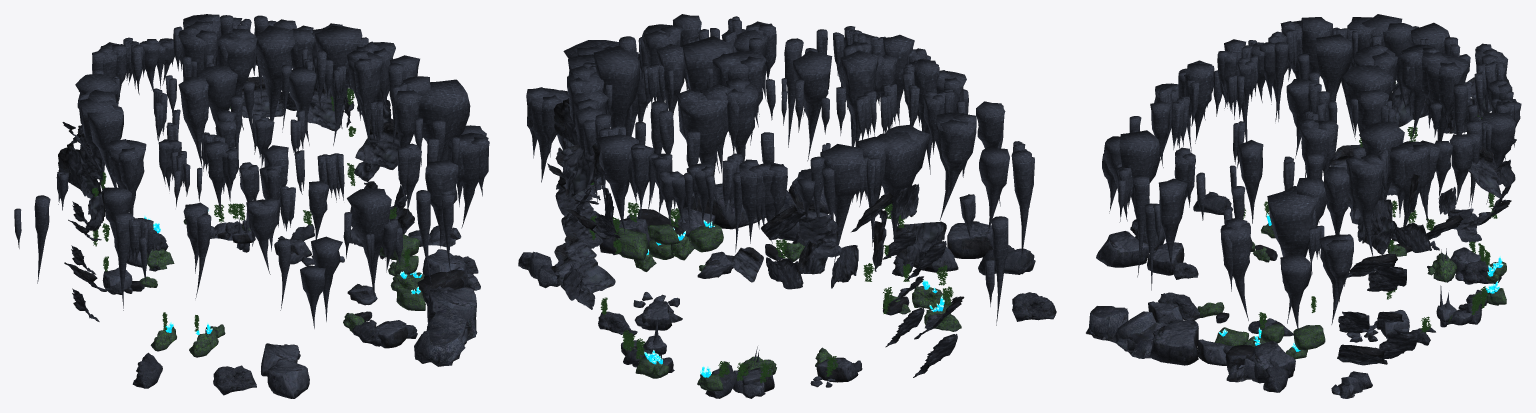
File: area_caverna.glb
3 views of the same model, side by side, from view 1: azimuth 30°, elevation 25°; view 2: azimuth 150°, elevation 25°; view 3: azimuth 270°, elevation 25° (orthographic). The views are drawn at different scales.
Visible parts, largest first — view 1: CAV_costao_002, CAV_est_110, CAV_est_044, CAV_est_108, CAV_est_130, CAV_est_046, CAV_est_091, CAV_est_133, CAV_est_109, CAV_est_039, CAV_est_036, CAV_est_066 (+59 smaller); view 2: CAV_est_034, CAV_est_046, CAV_est_133, CAV_est_borda_004, CAV_est_borda_001, CAV_est_120, CAV_est_124, CAV_est_borda_022, CAV_est_136, CAV_est_039, CAV_est_109, CAV_est_108 (+71 smaller); view 3: CAV_est_110, CAV_costao_002, CAV_est_034, CAV_est_040, CAV_est_borda_029, CAV_costao_004, CAV_est_130, CAV_est_044, CAV_est_120, CAV_est_124, CAV_est_091, CAV_est_136 (+70 smaller).
Boxes of the visible parts, box(x1,y1,x2,y2) form: CAV_costao_002: box(414, 303, 477, 366); CAV_est_110: box(418, 79, 470, 160); CAV_est_044: box(347, 188, 391, 298); CAV_est_108: box(255, 25, 295, 121); CAV_est_130: box(448, 132, 489, 228); CAV_est_046: box(315, 25, 361, 145); CAV_est_091: box(347, 50, 383, 147); CAV_est_133: box(106, 139, 146, 215); CAV_est_109: box(217, 28, 257, 130); CAV_est_039: box(178, 76, 208, 168); CAV_est_036: box(425, 160, 458, 250); CAV_est_066: box(246, 197, 279, 274); CAV_est_034: box(676, 84, 732, 210); CAV_est_046: box(593, 45, 640, 128); CAV_est_133: box(934, 112, 976, 220); CAV_est_borda_004: box(820, 144, 863, 263); CAV_est_borda_001: box(874, 132, 918, 240); CAV_est_120: box(792, 50, 832, 161); CAV_est_124: box(526, 87, 567, 182); CAV_est_borda_022: box(595, 134, 638, 235); CAV_est_136: box(725, 77, 758, 162); CAV_est_039: box(840, 50, 878, 146); CAV_est_109: box(712, 51, 766, 136); CAV_est_108: box(682, 36, 733, 173); CAV_est_110: box(1267, 186, 1319, 323); CAV_costao_002: box(1086, 306, 1168, 358); CAV_est_034: box(1421, 51, 1468, 140); CAV_est_040: box(1346, 153, 1384, 256); CAV_est_borda_029: box(1389, 141, 1430, 226); CAV_costao_004: box(1150, 320, 1198, 365); CAV_est_130: box(1220, 217, 1252, 320); CAV_est_044: box(1119, 130, 1160, 251); CAV_est_120: box(1316, 34, 1353, 101); CAV_est_124: box(1319, 234, 1353, 324); CAV_est_091: box(1299, 119, 1338, 222); CAV_est_136: box(1400, 44, 1439, 141).
Size of the model in its own units: 119 by 65.71 by 103.
Materials: 13 (11 with a texture image).
